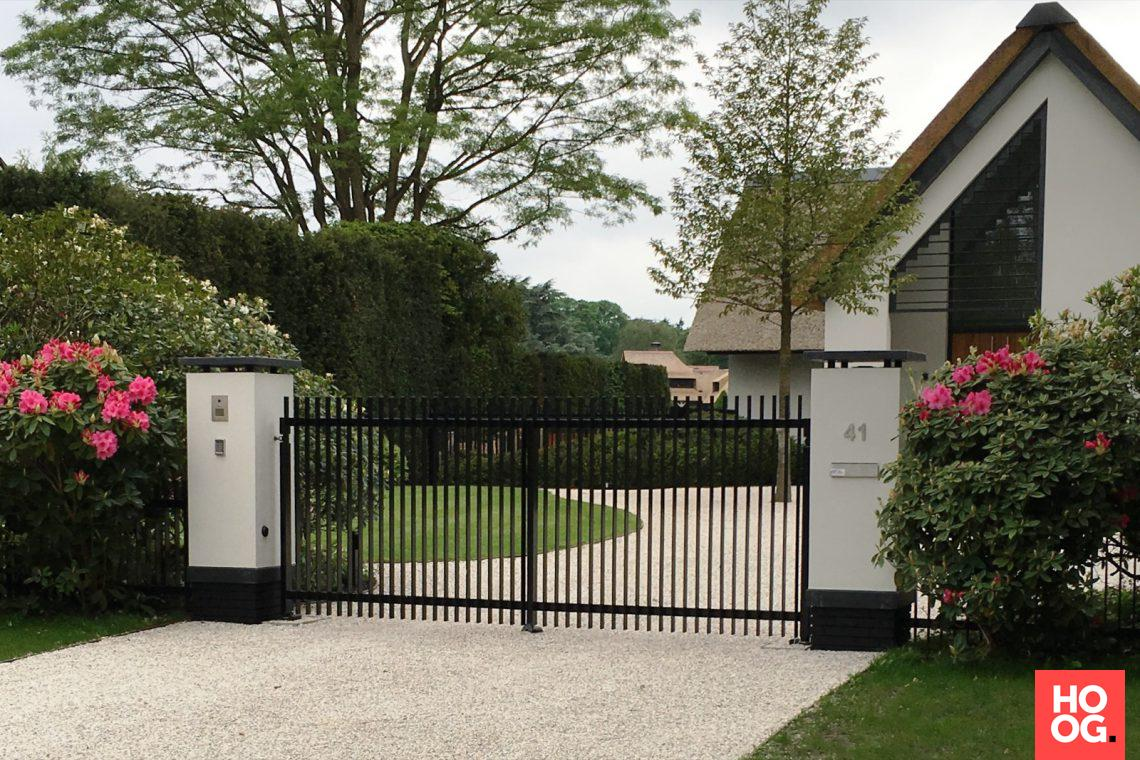obstacle: (2, 205, 936, 719)
